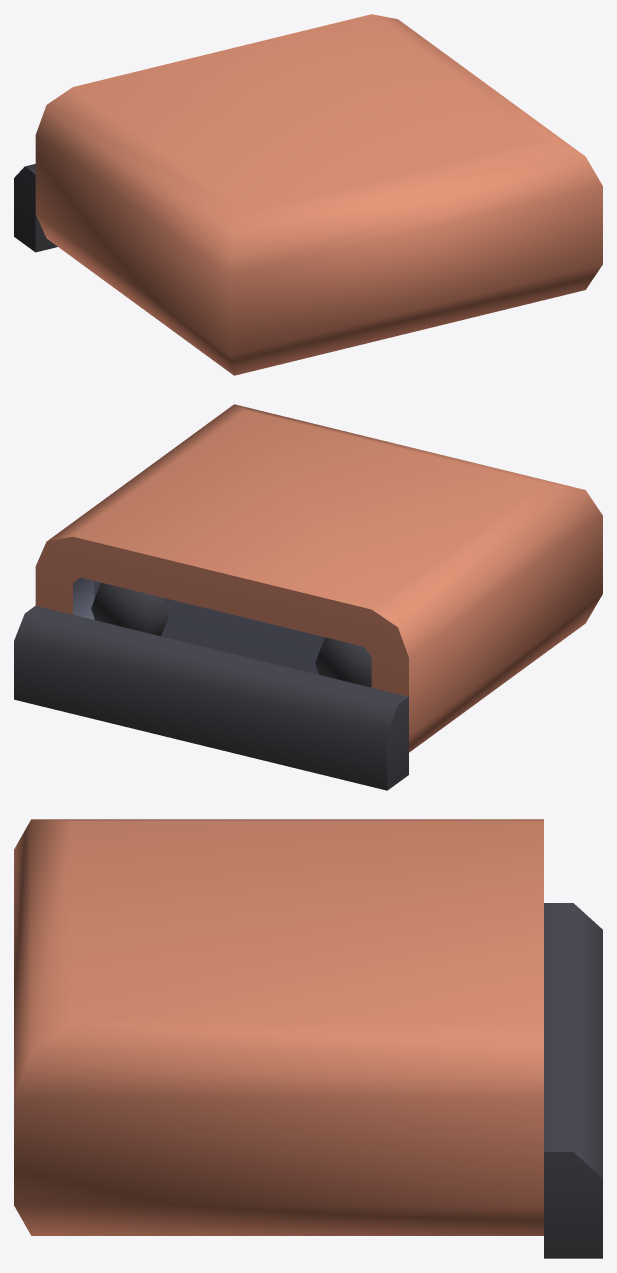
Rendered from conveyor-sides-junction-t.obj.
The picture shows the model from 3 angles, top to bottom: view 1: azimuth 30°, elevation 25°; view 2: azimuth 150°, elevation 25°; view 3: azimuth 270°, elevation 25°; orthographic projection. The views are drawn at different scales.
Visible parts, largest first — view 1: conveyor-sides-junction-t; view 2: conveyor-sides-junction-t; view 3: conveyor-sides-junction-t.
Boxes of the visible parts, bbox=[...] form: conveyor-sides-junction-t: bbox=[14, 14, 602, 375]; conveyor-sides-junction-t: bbox=[14, 404, 602, 790]; conveyor-sides-junction-t: bbox=[14, 819, 602, 1258].
Size of the model in its own units: 1 by 0.4 by 1.
